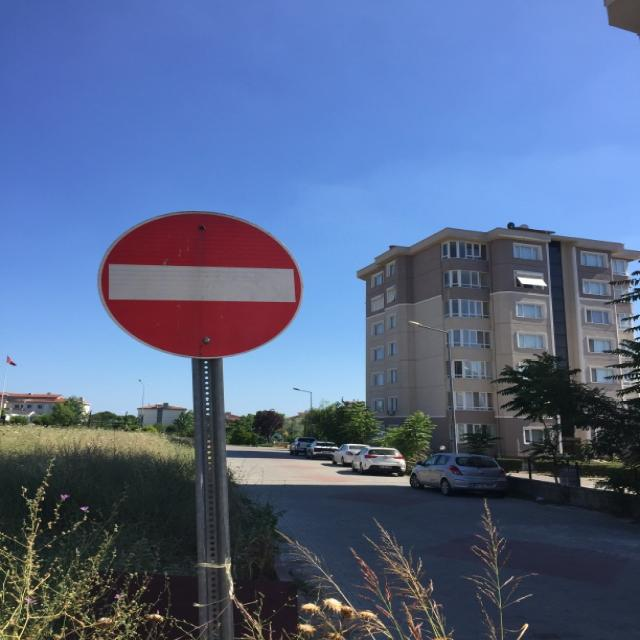girisyok: (96, 210, 302, 358)
